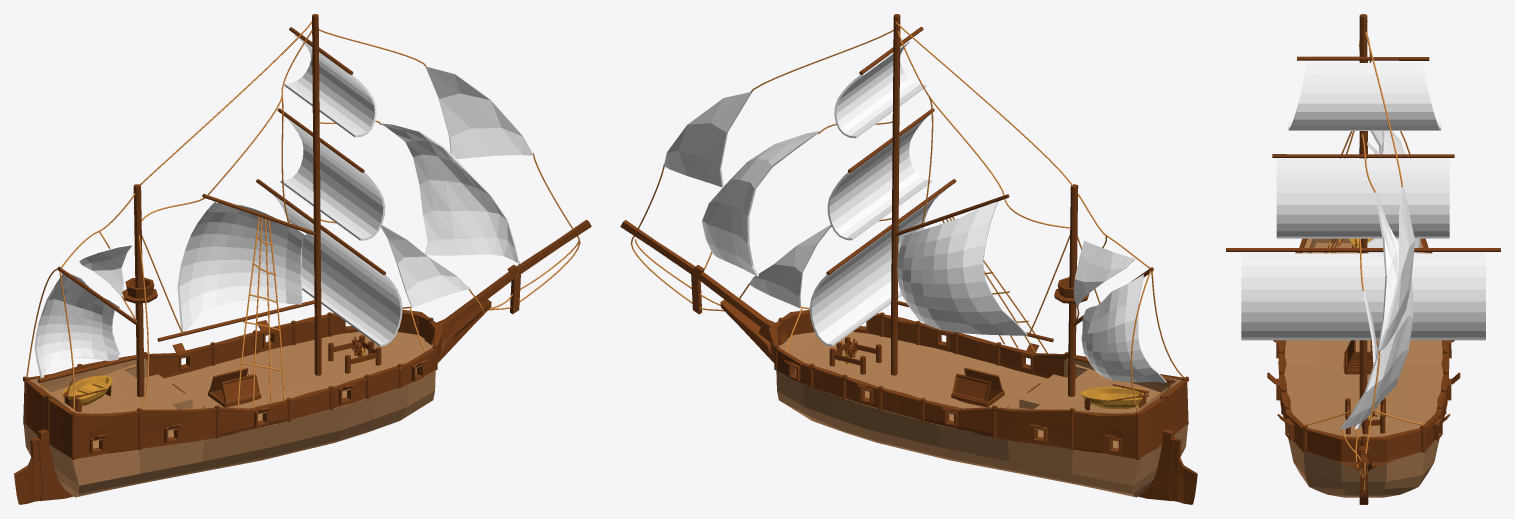
The model's file is ships_02_ketch.fbx.
3 views of the same model, side by side, from view 1: azimuth 30°, elevation 25°; view 2: azimuth 150°, elevation 25°; view 3: azimuth 270°, elevation 25° (orthographic). The views are drawn at different scales.
Parts seen in each view (by area): view 1: Flags.009, Base.011, Base.012, Ropes.005, Quill.007, Mast.011, Rooms base.006, Mast.012, Lower deck door.007, Boat.005, Helm area.004; view 2: Flags.009, Base.011, Base.012, Quill.007, Mast.011, Ropes.005, Rooms base.006, Mast.012, Lower deck door.007, Boat.005, Helm area.004; view 3: Flags.009, Base.011, Base.012, Mast.011, Ropes.005, Quill.007, Lower deck door.007, Rooms base.006, Helm area.004.
Boxes of the visible parts, x1,y1,x2,y2 form: Flags.009: (34, 34, 533, 378); Base.011: (23, 331, 438, 497); Base.012: (23, 309, 443, 459); Ropes.005: (26, 21, 580, 411); Quill.007: (14, 220, 591, 504); Mast.011: (157, 14, 385, 375); Rooms base.006: (30, 358, 210, 413); Mast.012: (38, 184, 157, 397); Lower deck door.007: (208, 368, 261, 407); Boat.005: (62, 375, 112, 405); Helm area.004: (328, 335, 381, 373); Flags.009: (664, 35, 1166, 382); Base.011: (773, 332, 1187, 497); Base.012: (768, 309, 1188, 459); Quill.007: (620, 220, 1197, 504); Mast.011: (826, 14, 1053, 375); Ropes.005: (630, 21, 1184, 412); Rooms base.006: (1001, 358, 1181, 414); Mast.012: (1054, 184, 1172, 396); Lower deck door.007: (951, 367, 1004, 407); Boat.005: (1080, 386, 1144, 409); Helm area.004: (829, 336, 881, 374); Flags.009: (1241, 63, 1485, 430); Base.011: (1279, 340, 1448, 497); Base.012: (1267, 238, 1460, 461); Mast.011: (1226, 14, 1500, 399); Ropes.005: (1280, 21, 1424, 490); Quill.007: (1334, 446, 1392, 504); Lower deck door.007: (1343, 340, 1377, 374); Rooms base.006: (1302, 238, 1425, 253); Helm area.004: (1345, 397, 1385, 434).
Bounding box in the file's own units: 7197 × 5027 × 2741.
